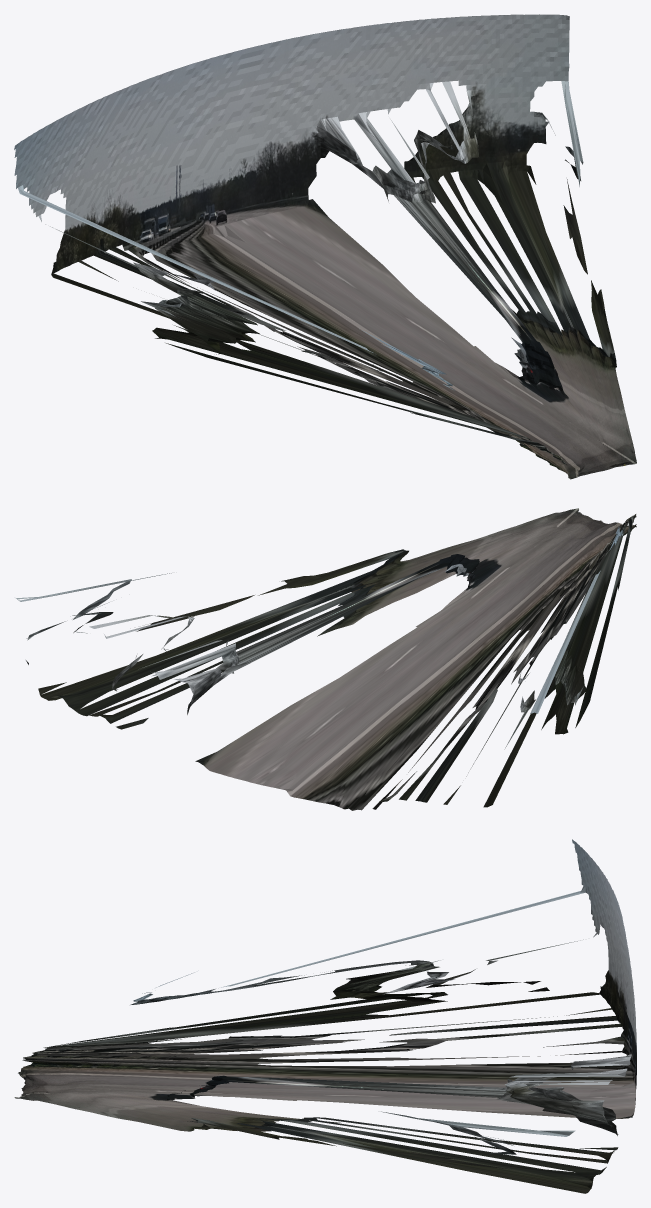
The picture shows the model from 3 angles, top to bottom: view 1: azimuth 30°, elevation 25°; view 2: azimuth 150°, elevation 25°; view 3: azimuth 270°, elevation 25°; orthographic projection. The views are drawn at different scales.
Parts seen in each view (by area): view 1: defaultobject; view 2: defaultobject; view 3: defaultobject.
Part boxes in pixels (left/top/right/bottom): defaultobject: left=14, top=14, right=636, bottom=479; defaultobject: left=16, top=508, right=636, bottom=810; defaultobject: left=14, top=839, right=636, bottom=1193.
Bounding box in the file's own units: 39.7 × 12.8 × 44.81.
1 material, 1 textured.
